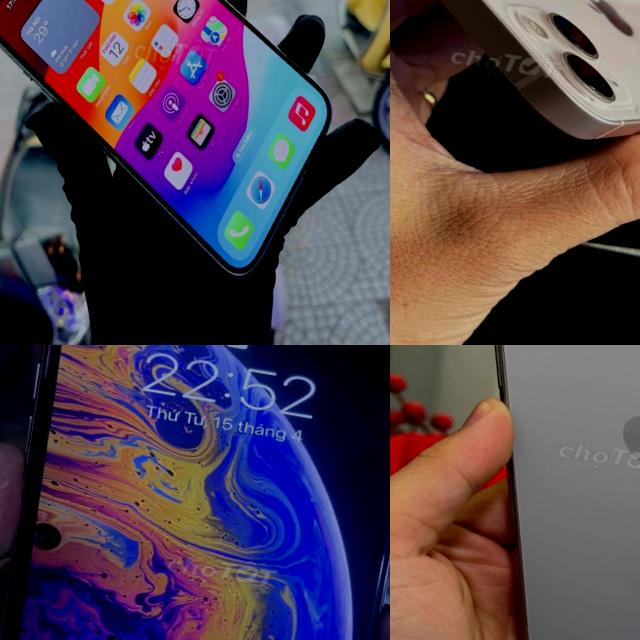gen_12_13: (0, 0, 367, 295), (390, 0, 640, 169)
gen_15: (419, 345, 640, 640)
gen_x_xs: (0, 345, 390, 640)
